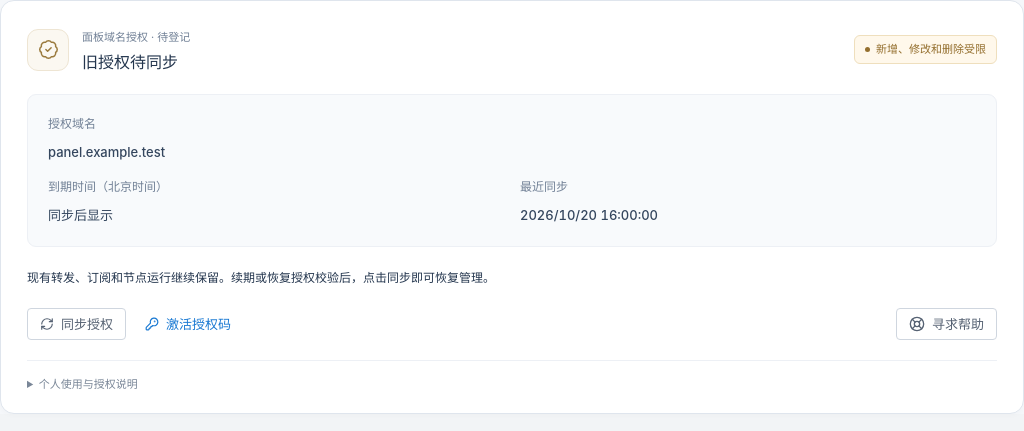
Scenario: Panel license UI › keeps legacy signed identities restricted until explicit entitlements are synchronized
The image size is (1024, 431).
Click the button "同步授权".
click(76, 324)  # box [27,308,126,340]
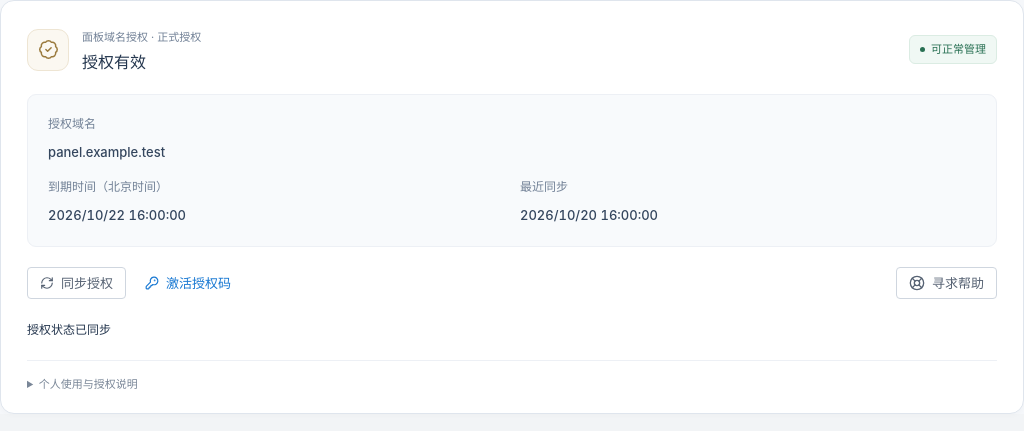
Expected: the text "授权有效" is shown, [82,52,146,72]
